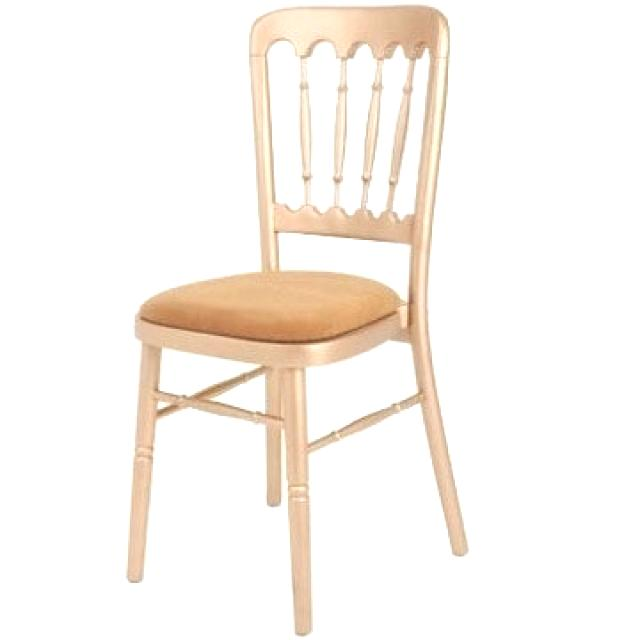Chair: (122, 5, 476, 638)
